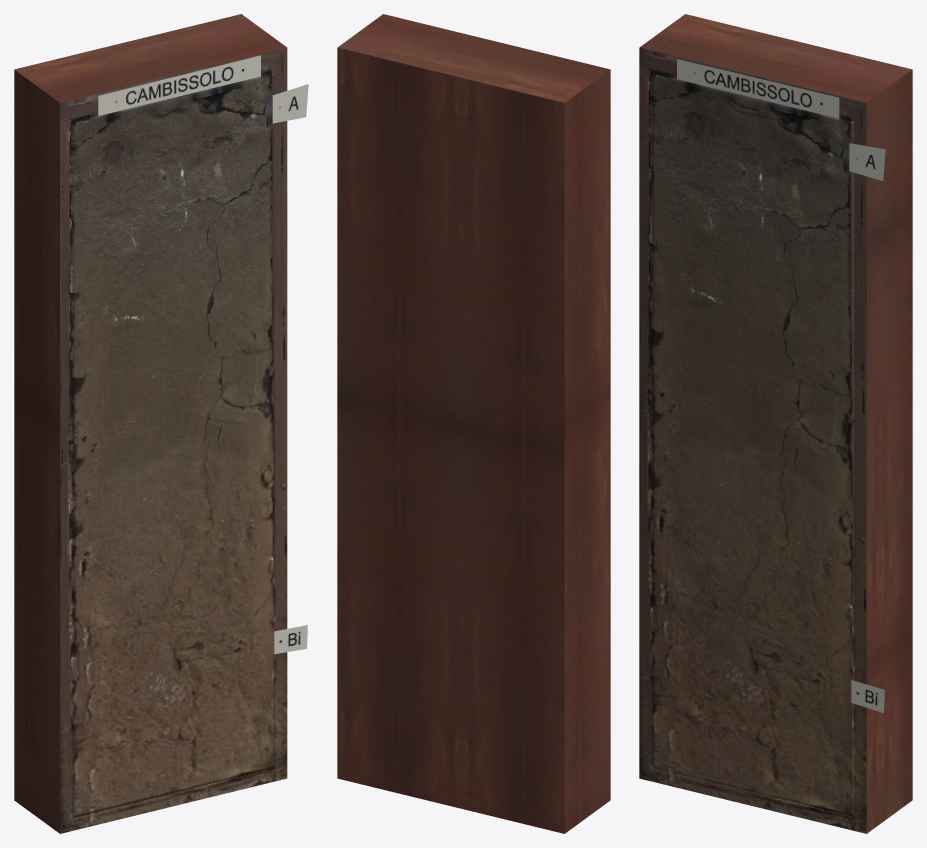
The model's file is perfil_11_05_cambissolo.glb.
The picture shows the model from 3 angles, left to right: view 1: azimuth 30°, elevation 25°; view 2: azimuth 150°, elevation 25°; view 3: azimuth 330°, elevation 25°; orthographic projection.
Visible parts, largest first — view 1: Solo_11_05, Madeira_11_05, Moldura_11_05, Rotulos_11_05; view 2: Madeira_11_05; view 3: Solo_11_05, Madeira_11_05, Moldura_11_05, Rotulos_11_05.
Boxes of the visible parts, x1,y1,x2,y2 form: Solo_11_05: [72, 72, 275, 817]; Madeira_11_05: [14, 14, 286, 833]; Moldura_11_05: [60, 47, 287, 833]; Rotulos_11_05: [98, 55, 308, 654]; Madeira_11_05: [337, 14, 610, 833]; Solo_11_05: [651, 72, 853, 817]; Madeira_11_05: [640, 14, 912, 833]; Moldura_11_05: [639, 47, 866, 833]; Rotulos_11_05: [677, 59, 885, 713].
Bounding box in the file's own units: 0.3675 × 1.04 × 0.1251.
Materials: 4 (4 with a texture image).
